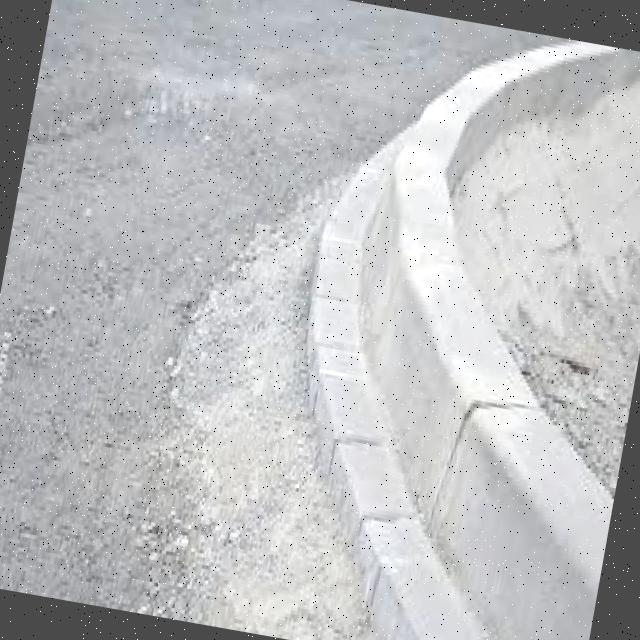curb: (282, 212, 535, 513), (350, 375, 629, 640), (458, 34, 608, 121), (350, 121, 464, 225), (407, 63, 495, 158)
